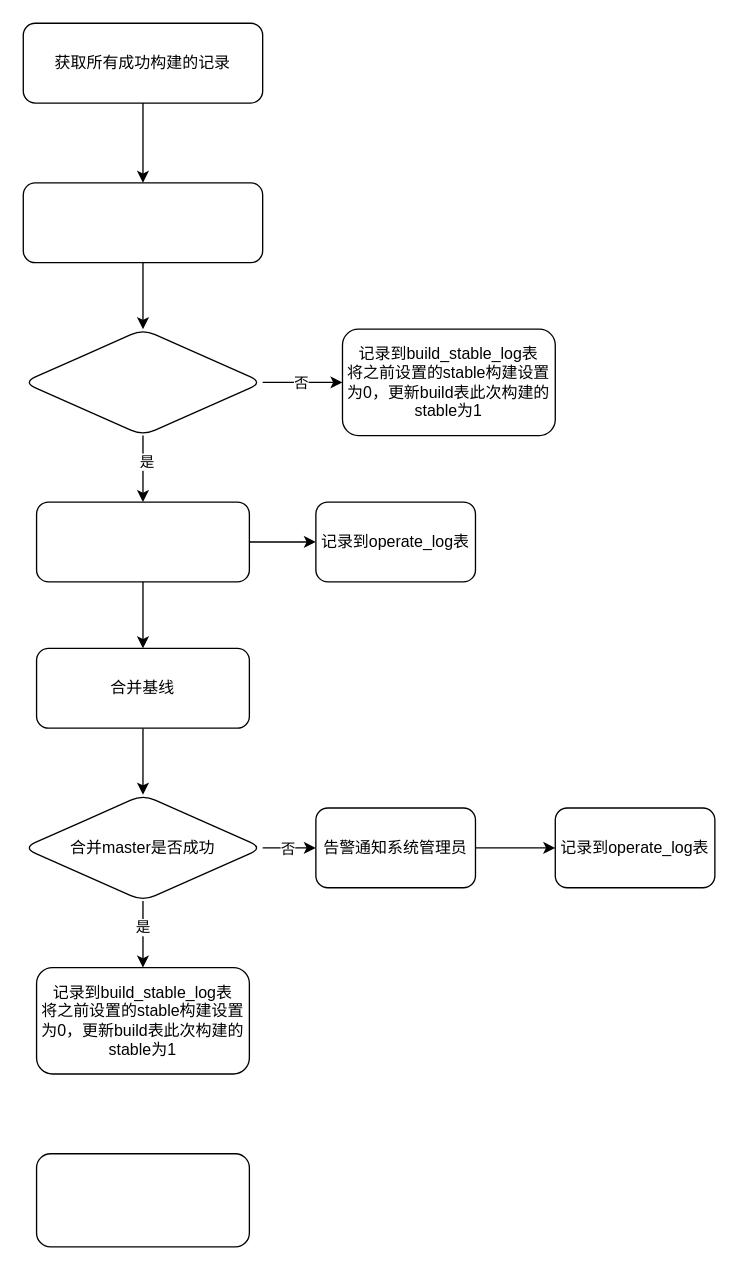
This 738x1270 diagram has some shape labels left out. The centre of each missing label's shape, as x and y in pixels:
"将当前分支打tag" belongs at (x=142, y=541).
"是否是第一次设置stable" belongs at (x=142, y=382).
"点击设置stable" belongs at (x=142, y=222).
"给业务负责人和tl发通知" belongs at (x=142, y=1199).
